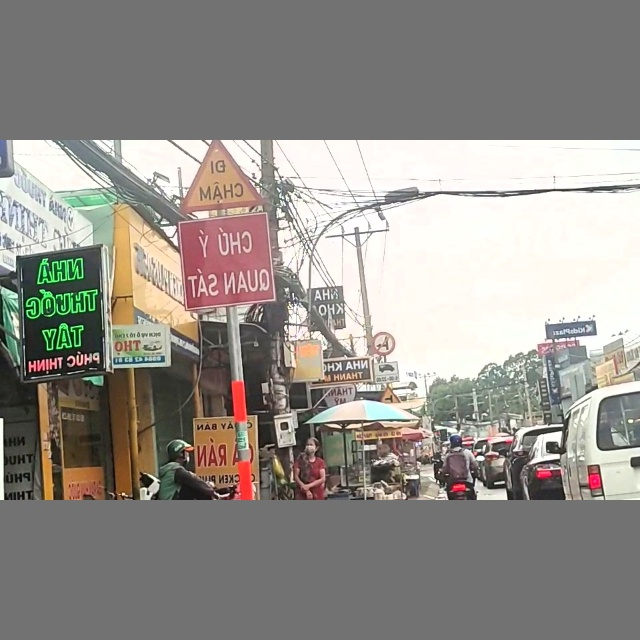P.139: (371, 332, 395, 355)
S.505a*Xe tai: (375, 361, 401, 383)
W.205b: (377, 385, 402, 406)
W.245a: (180, 141, 265, 213)
